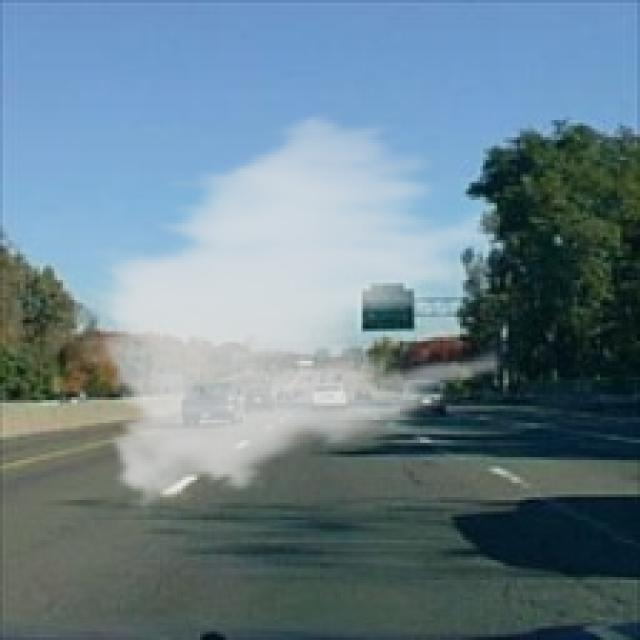smoke: (80, 103, 500, 520)
